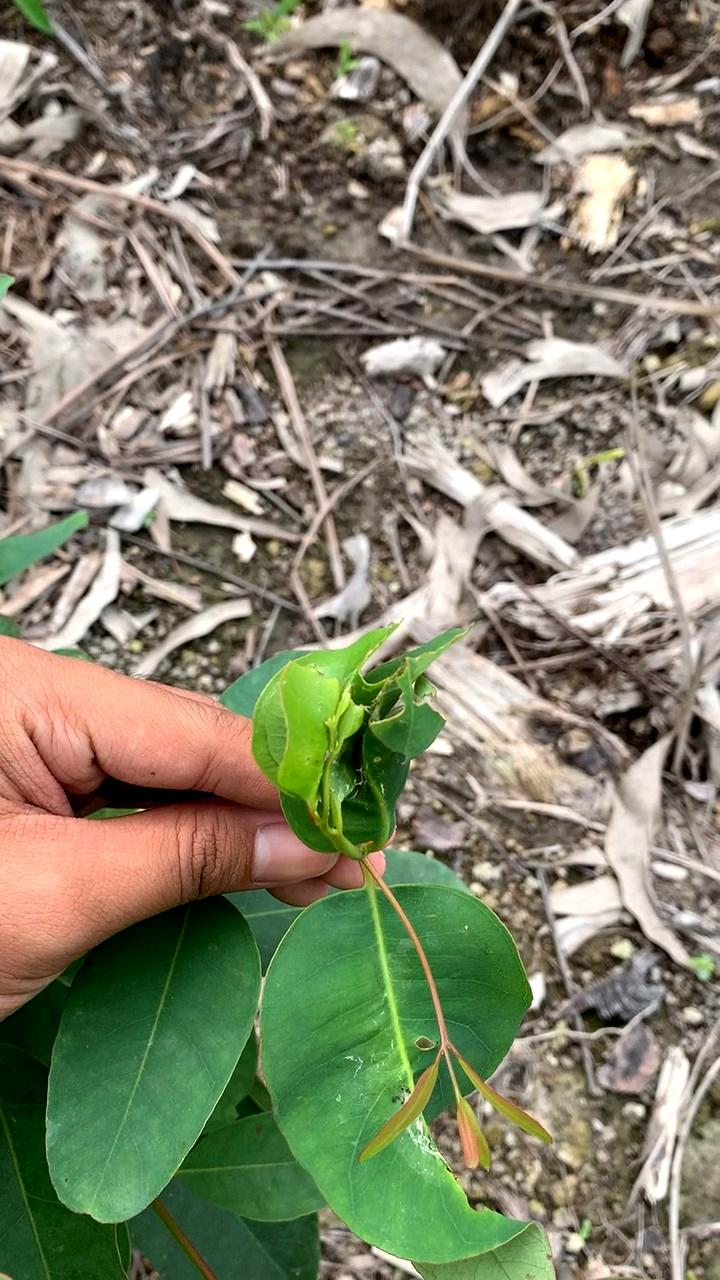Leaf Roller - Leaf: (223, 603, 525, 906)
